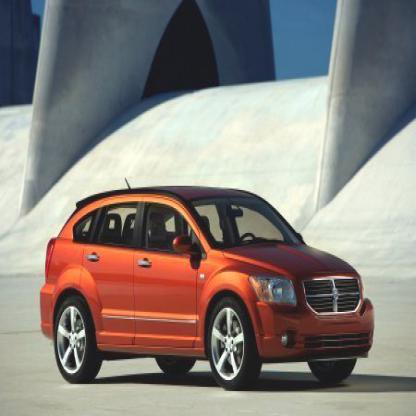Vehicle: (40, 177, 378, 394)
